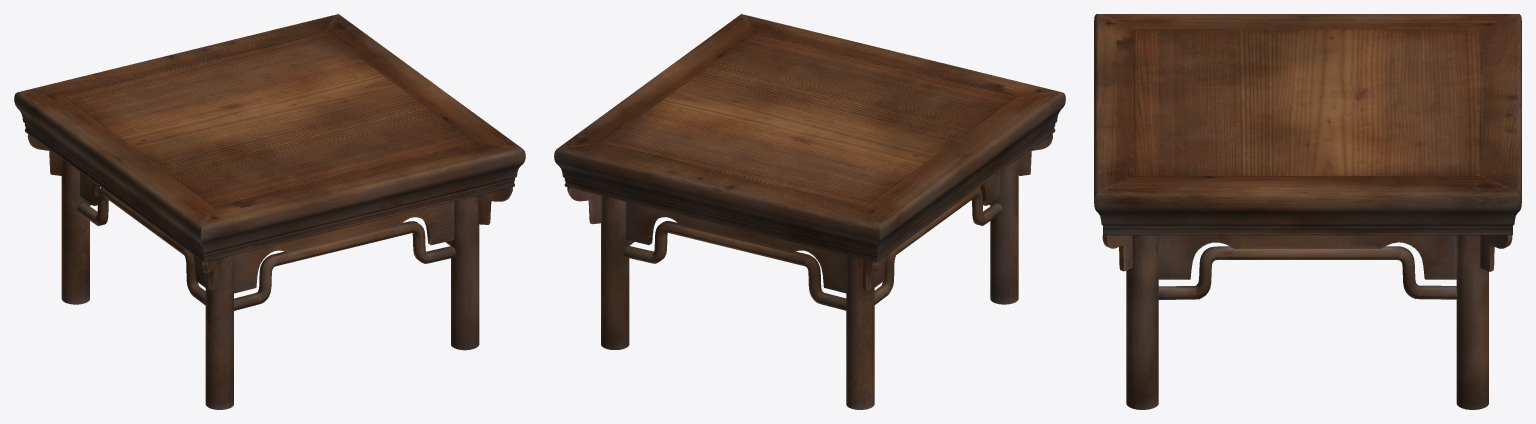
File: chinese_tea_table.glb
3 views of the same model, side by side, from view 1: azimuth 30°, elevation 25°; view 2: azimuth 150°, elevation 25°; view 3: azimuth 270°, elevation 25° (orthographic). The views are drawn at different scales.
Parts seen in each view (by area): view 1: chinese_tea_table; view 2: chinese_tea_table; view 3: chinese_tea_table.
Boxes of the visible parts, bbox=[...] form: chinese_tea_table: bbox=[14, 14, 525, 409]; chinese_tea_table: bbox=[554, 14, 1065, 409]; chinese_tea_table: bbox=[1094, 14, 1521, 409].
Size of the model in its own units: 0.8413 by 0.4986 by 0.8356.
1 material, 1 textured.
